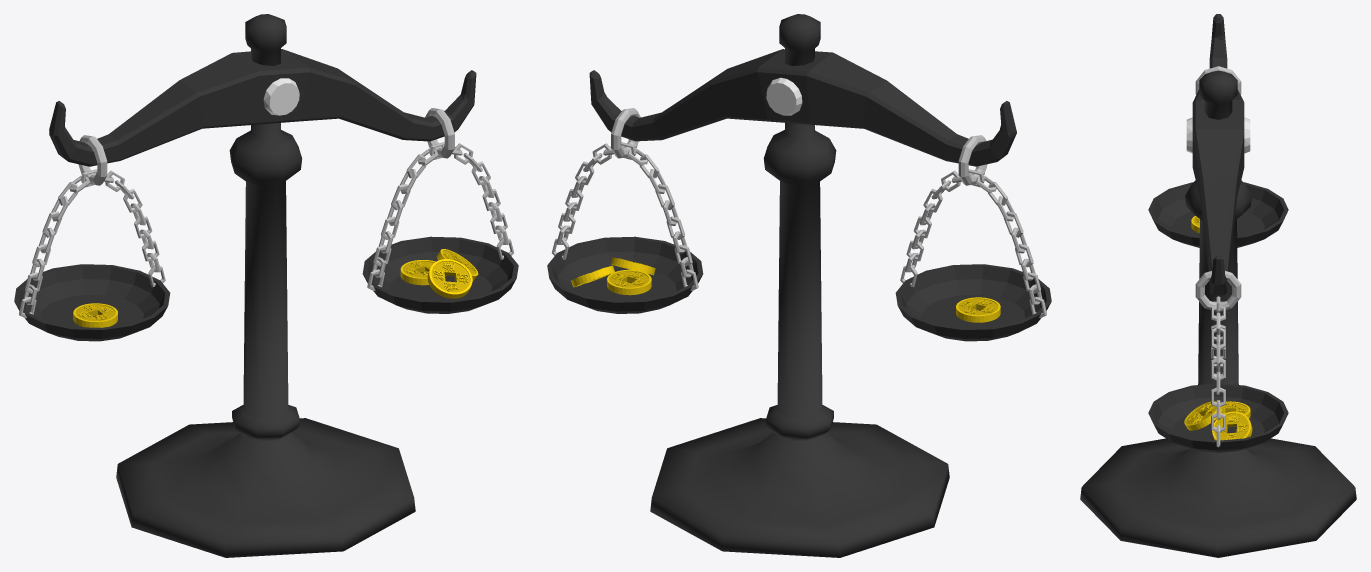
File: Raven_Scale_Small.fbx
3 views of the same model, side by side, from view 1: azimuth 30°, elevation 25°; view 2: azimuth 150°, elevation 25°; view 3: azimuth 270°, elevation 25° (orthographic). The views are drawn at different scales.
Parts seen in each view (by area): view 1: Cube.002, Cube.003, Sphere.003, Sphere.002, Torus.007, Torus.005, Cylinder.002, Cylinder.003, Torus.006, Torus.004, Cylinder; view 2: Cube.002, Cube.003, Sphere.003, Sphere.002, Torus.007, Torus.005, Cylinder.003, Cylinder, Torus.006, Torus.004; view 3: Cube.002, Cube.003, Sphere.002, Sphere.003, Torus.005, Torus.004, Cylinder.001, Cylinder.002.
Part boxes in pixels (x1,y1,x2,y2): Cube.002: (116,14,415,557); Cube.003: (49,49,476,166); Sphere.003: (14,264,170,341); Sphere.002: (362,236,518,313); Torus.007: (19,169,165,318); Torus.005: (367,142,513,290); Cylinder.002: (427,259,472,298); Cylinder.003: (73,303,117,327); Torus.006: (78,135,107,185); Torus.004: (425,108,454,158); Cylinder: (400,260,445,285); Cube.002: (650,14,949,557); Cube.003: (589,49,1016,166); Sphere.003: (895,264,1051,341); Sphere.002: (547,236,703,313); Torus.007: (900,169,1046,318); Torus.005: (552,142,698,290); Cylinder.003: (956,297,1000,322); Cylinder: (607,269,651,295); Torus.006: (958,135,987,185); Torus.004: (611,108,640,158); Cube.002: (1080,70,1356,557); Cube.003: (1186,14,1250,295); Sphere.002: (1148,383,1288,452); Sphere.003: (1148,182,1288,247); Torus.005: (1211,296,1225,447); Torus.004: (1195,271,1241,311); Cylinder.001: (1212,411,1252,440); Cylinder.002: (1184,401,1221,430).
Bounding box in the file's own units: 155 × 144 × 84.12.
